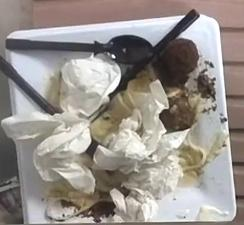meatball: (152, 39, 199, 87)
pasta: (91, 66, 155, 145)
